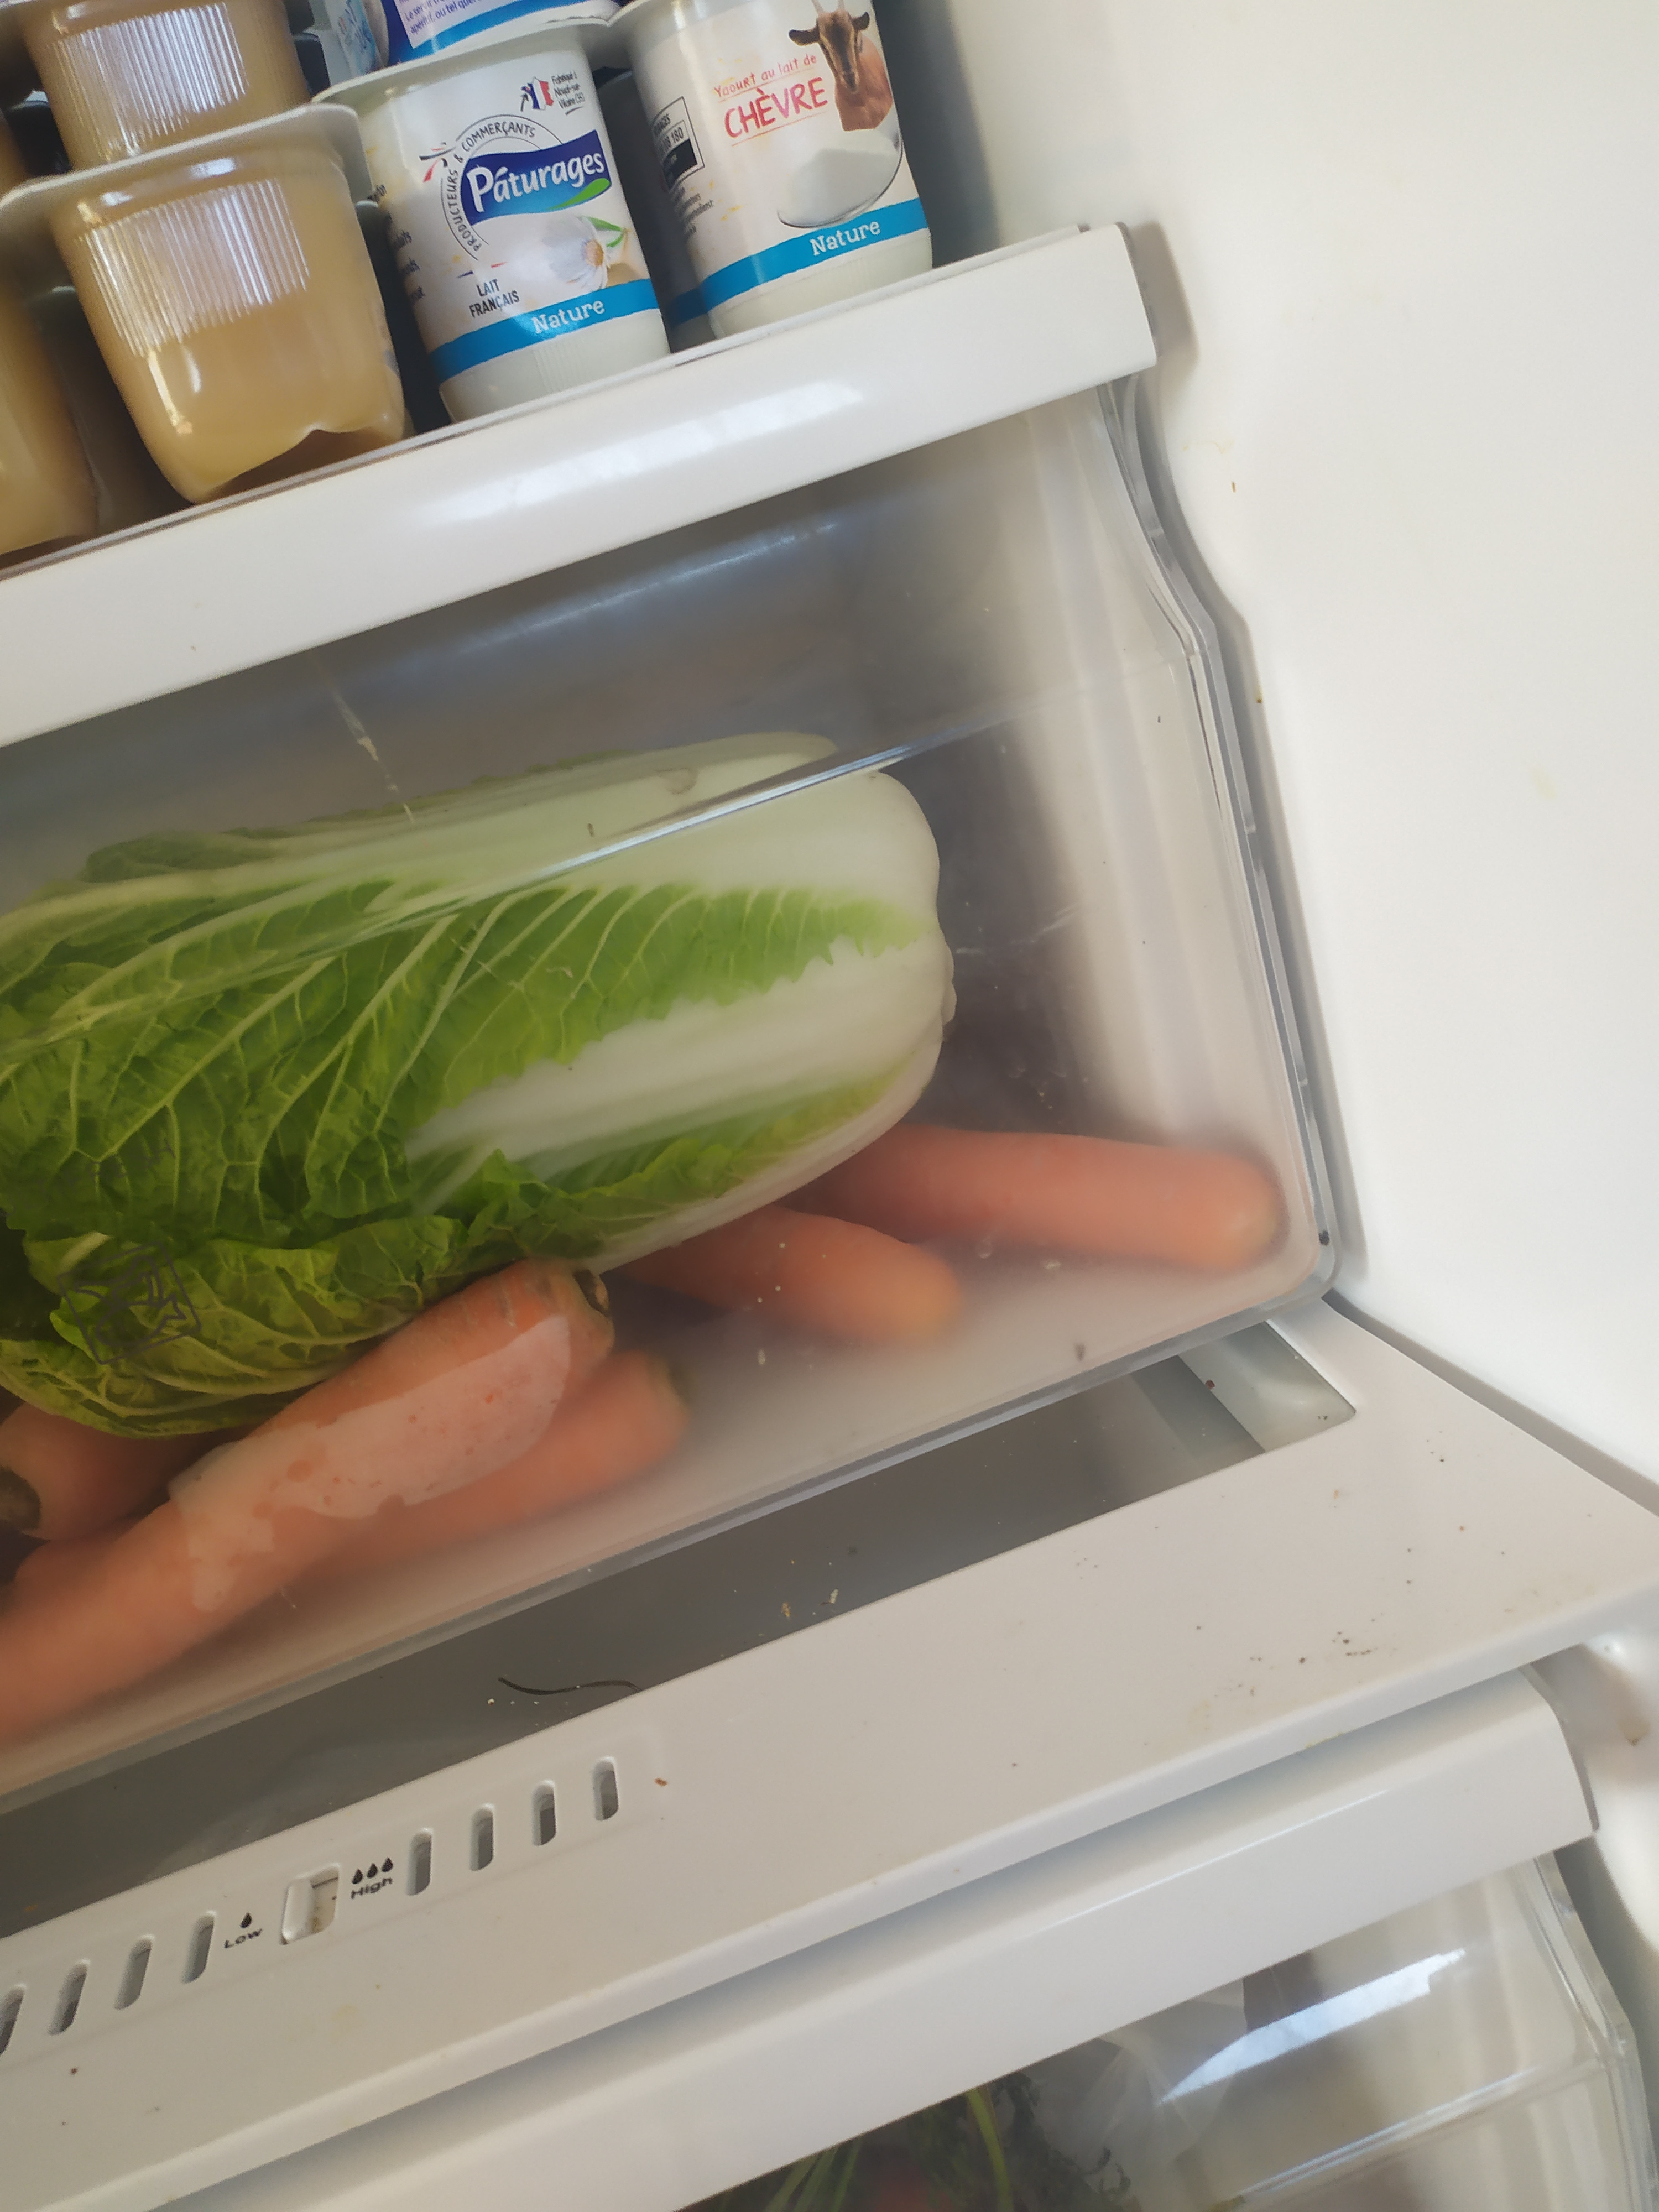carrot: (0, 1261, 619, 1742), (282, 1353, 680, 1583), (819, 1129, 1288, 1251), (572, 1198, 971, 1334), (5, 1343, 242, 1536)
compote: (0, 127, 410, 486), (0, 0, 314, 172), (0, 190, 91, 578)
yoghurt: (317, 7, 687, 416), (627, 0, 950, 380), (356, 0, 634, 80)
